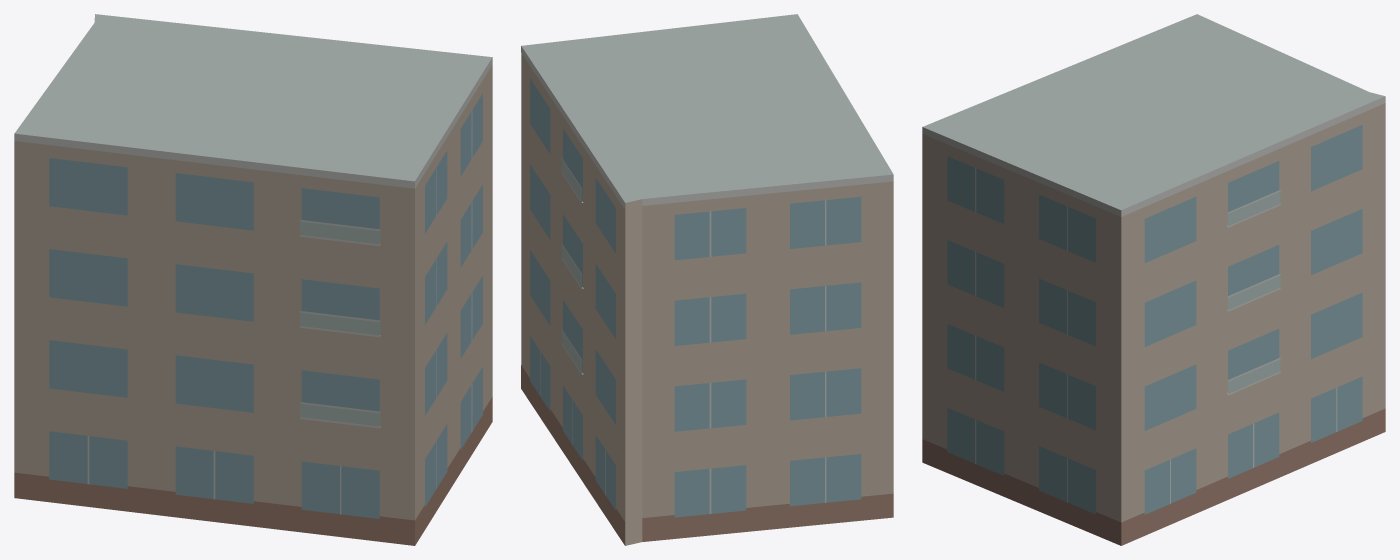
Rendered from survey-upis-33038528.glb.
3 views of the same model, side by side, from view 1: azimuth 30°, elevation 25°; view 2: azimuth 150°, elevation 25°; view 3: azimuth 270°, elevation 25° (orthographic). The views are drawn at different scales.
Parts seen in each view (by area): view 1: survey-upis-33038528.tmp; view 2: survey-upis-33038528.tmp; view 3: survey-upis-33038528.tmp.
Part boxes in pixels (left/top/right/bottom): survey-upis-33038528.tmp: left=14, top=14, right=492, bottom=545; survey-upis-33038528.tmp: left=521, top=14, right=893, bottom=545; survey-upis-33038528.tmp: left=922, top=14, right=1385, bottom=545.
Size of the model in its own units: 15.32 by 12.2 by 15.27.
